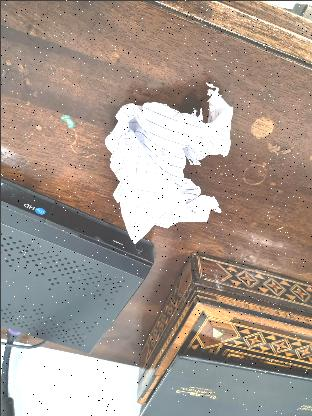Others: (104, 85, 232, 241)
